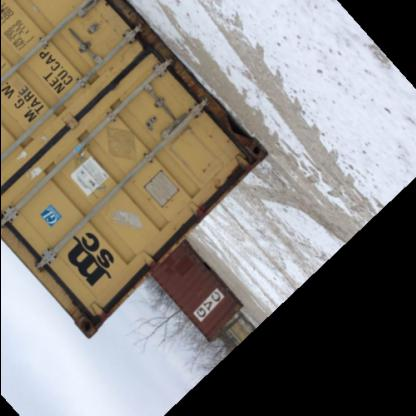Damage: (190, 160, 244, 217), (128, 32, 182, 86), (216, 113, 260, 174), (69, 300, 104, 338)
